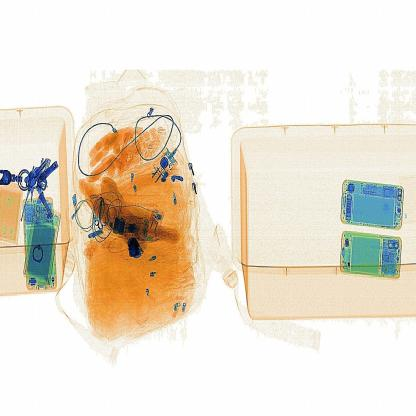scissors: (124, 234, 154, 264)
